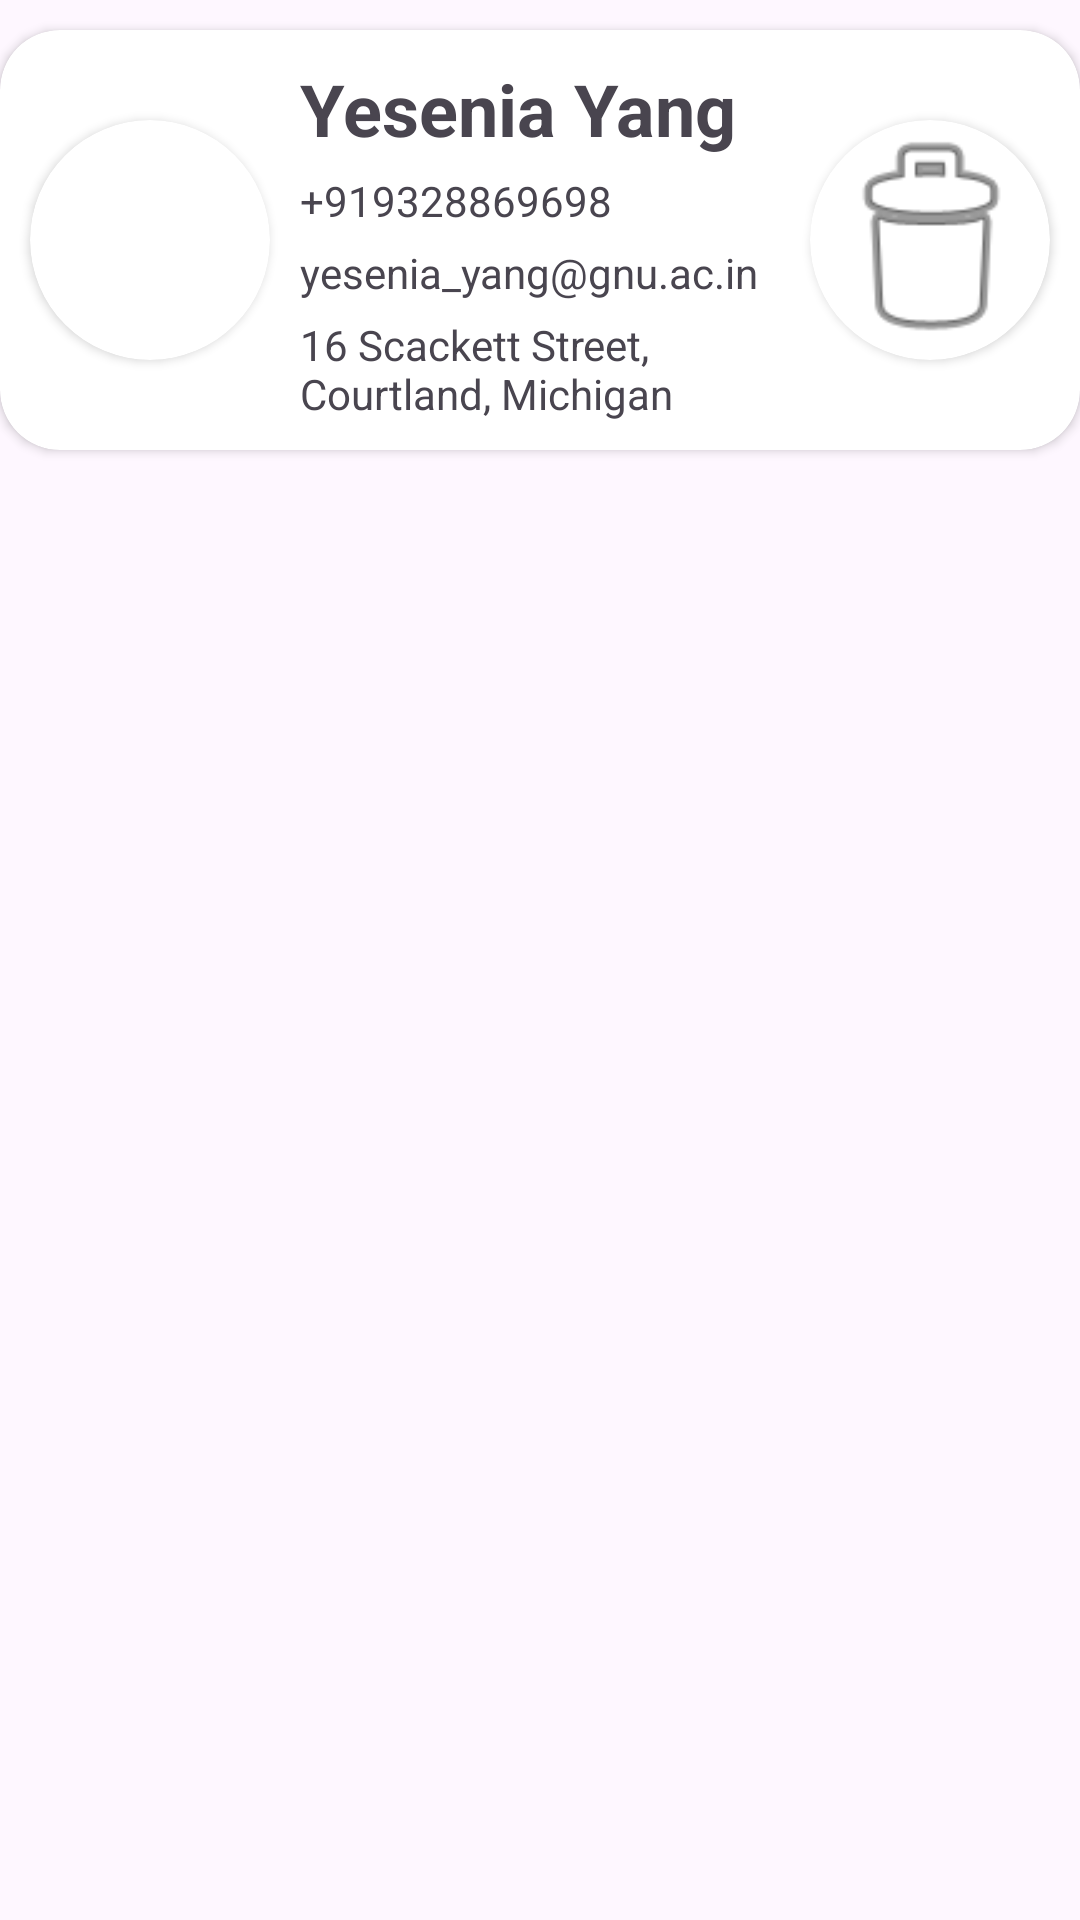

Screen size 1080x1920. Icon name, then its box in pixels as {"x1": x1, "y1": y1, "x2": x2, "y2": y2}:
delete: {"x1": 863, "y1": 142, "x2": 1050, "y2": 355}
